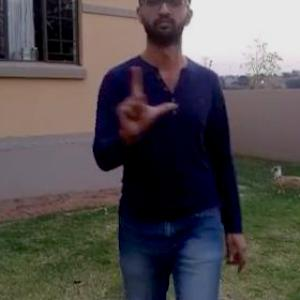land_hand: (111, 55, 181, 137)
